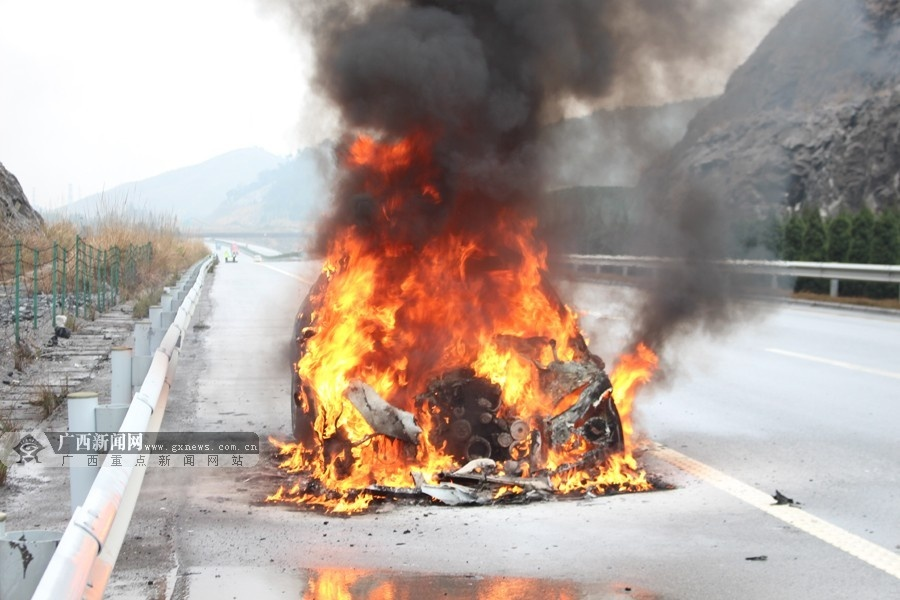fire: (280, 147, 668, 515)
